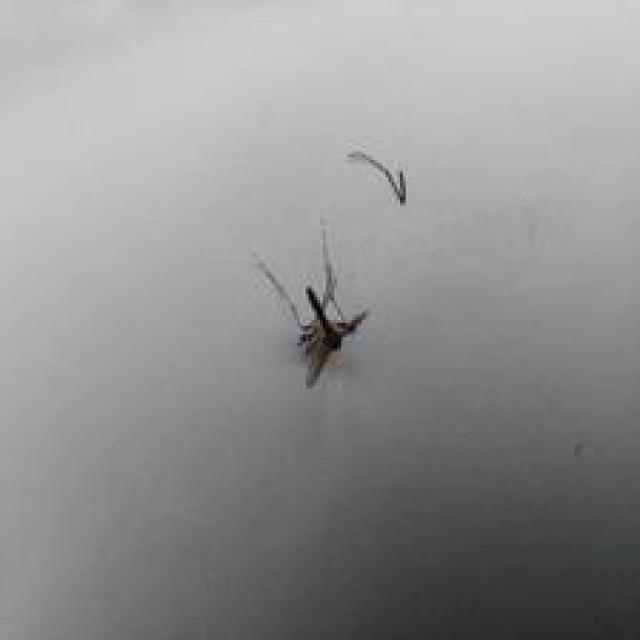Aedes albopictus: (253, 224, 370, 390)
